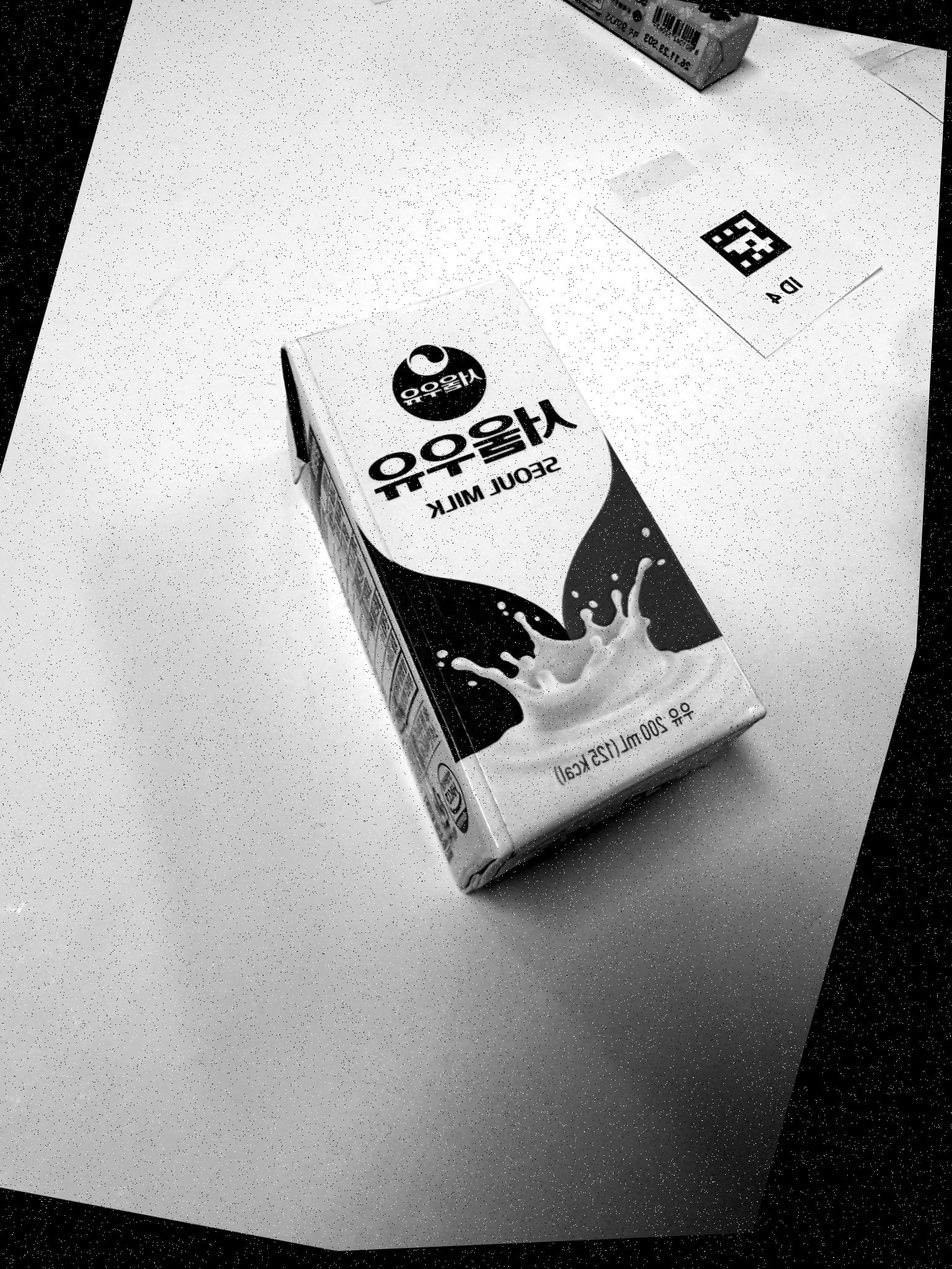milk_green: (281, 276, 765, 892)
